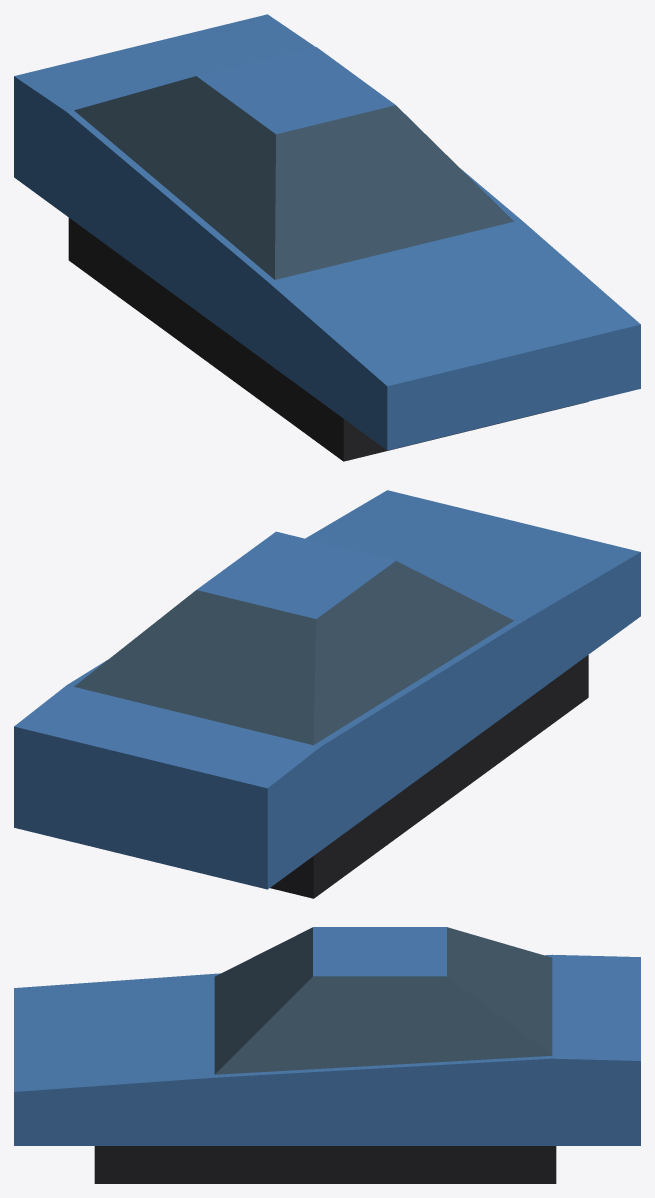
Rendered from 0_far.fbx.
3 renders of one model, top to bottom at view 1: azimuth 30°, elevation 25°; view 2: azimuth 150°, elevation 25°; view 3: azimuth 270°, elevation 25°, orthographic. The views are drawn at different scales.
Visible parts, largest first — view 1: 10_0_far; view 2: 10_0_far; view 3: 10_0_far.
Part boxes in pixels (bbox=[...]): 10_0_far: bbox=[14, 14, 640, 461]; 10_0_far: bbox=[14, 490, 640, 898]; 10_0_far: bbox=[14, 927, 640, 1183].
Bounding box in the file's own units: 1.8 × 1.47 × 4.59.
